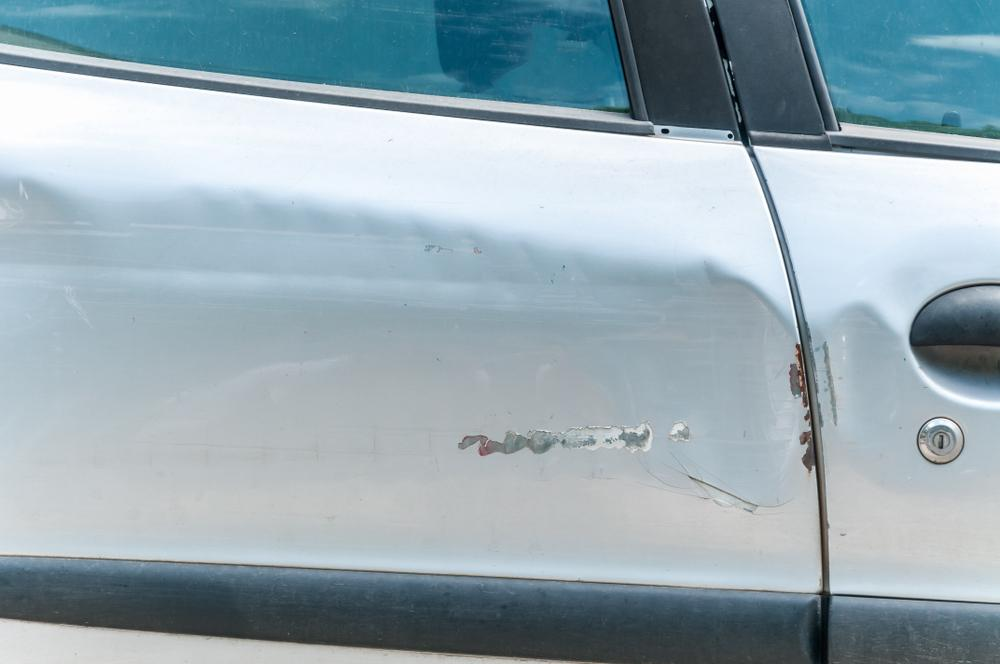dent: (0, 171, 806, 509), (817, 304, 913, 482)
